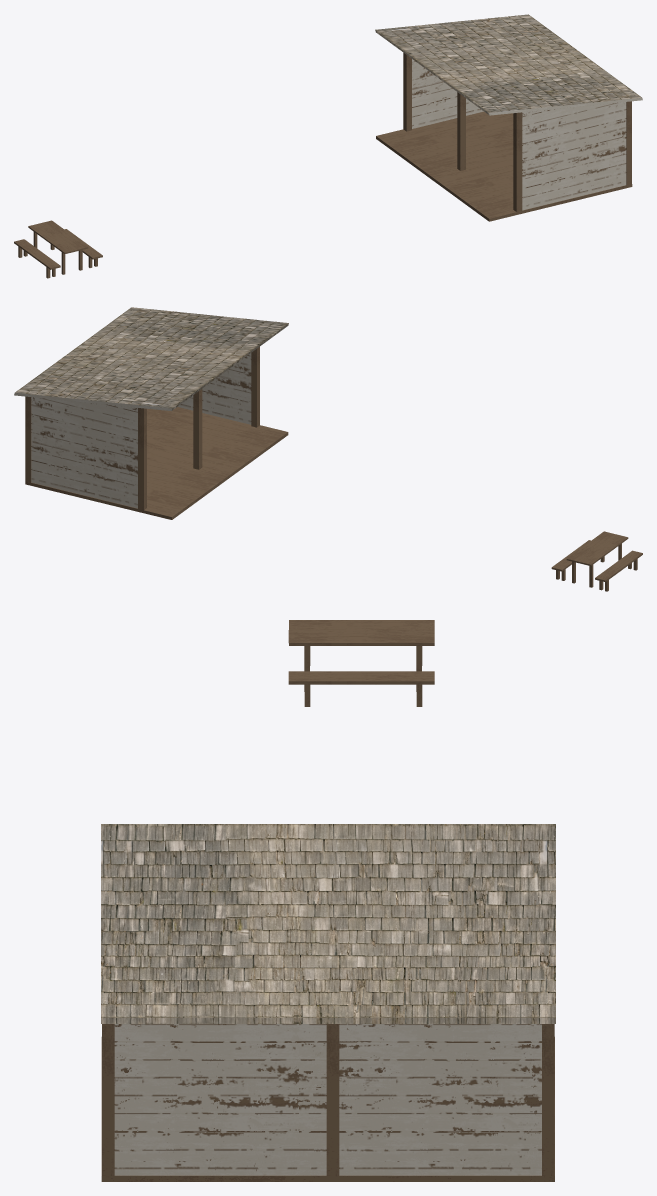
Rendered from FarmVeranda02.fbx.
The picture shows the model from 3 angles, top to bottom: view 1: azimuth 30°, elevation 25°; view 2: azimuth 150°, elevation 25°; view 3: azimuth 270°, elevation 25°; orthographic projection. The views are drawn at different scales.
Parts seen in each view (by area): view 1: FermHaus.022, table.006; view 2: FermHaus.022, table.006; view 3: FermHaus.022, table.006.
Boxes of the visible parts, left/top/right/bottom form: FermHaus.022: left=375, top=14, right=642, bottom=221; table.006: left=14, top=220, right=102, bottom=278; FermHaus.022: left=14, top=307, right=288, bottom=519; table.006: left=551, top=531, right=642, bottom=591; FermHaus.022: left=101, top=824, right=555, bottom=1181; table.006: left=288, top=620, right=434, bottom=706.
Bounding box in the file's own units: 1979 × 378 × 715.
